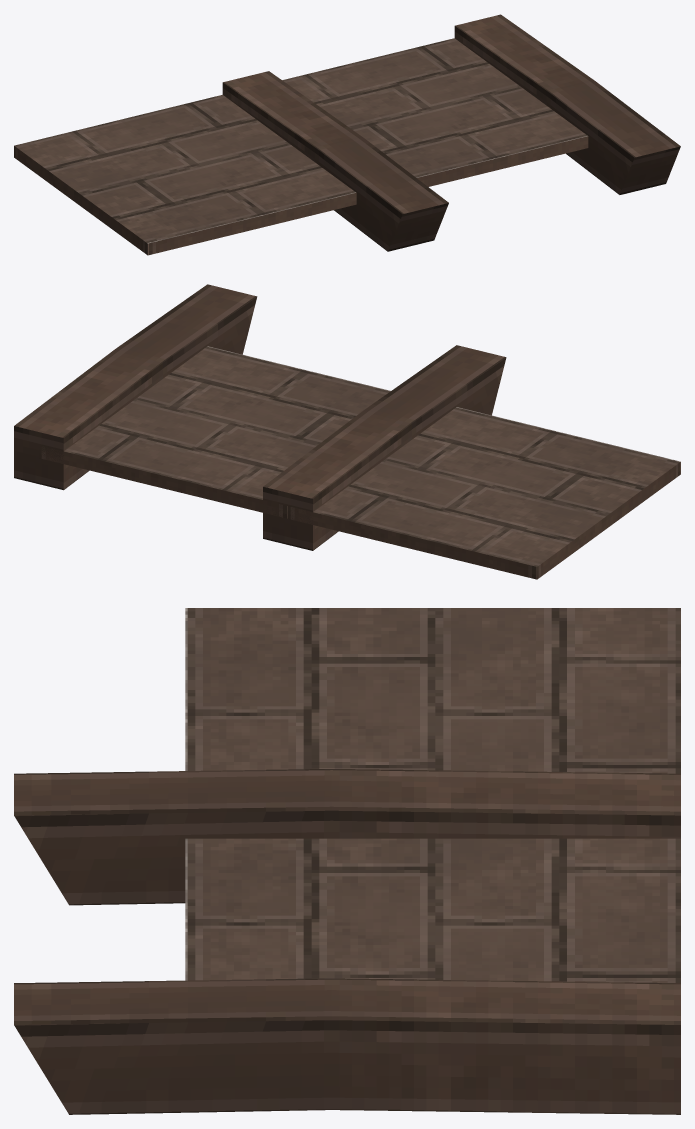
The model's file is overhang_end.glb.
3 renders of one model, top to bottom at view 1: azimuth 30°, elevation 25°; view 2: azimuth 150°, elevation 25°; view 3: azimuth 270°, elevation 25°, orthographic. The views are drawn at different scales.
Visible parts, largest first — view 1: overhang_end; view 2: overhang_end; view 3: overhang_end.
Part boxes in pixels (x1,y1,x2,y2): overhang_end: (14, 14, 680, 255); overhang_end: (14, 284, 680, 579); overhang_end: (14, 608, 680, 1114).
Size of the model in its own units: 2.1 by 0.2108 by 1.35.
Materials: 1 (1 with a texture image).
